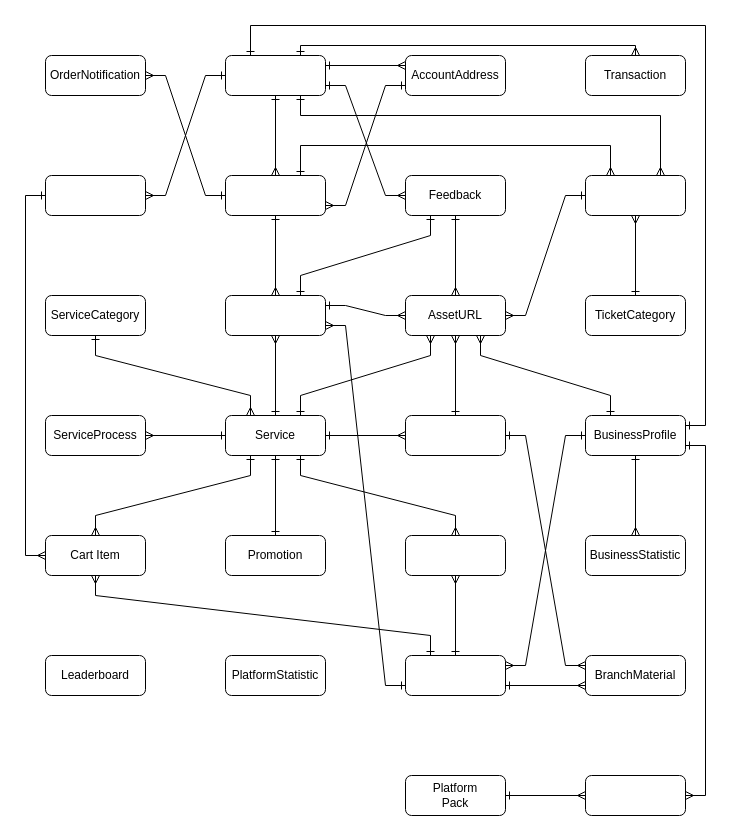
This 732x833 diagram has some shape labels left out. Each missing label, with the centre of its shape:
Account: the point at 275,75
BranchService: the point at 455,555
BusinessBranch: the point at 455,675
Cart: the point at 95,195
Material: the point at 455,435
Order: the point at 275,195
OrderDetail: the point at 275,315
Pack Subscription: the point at 635,795
Support Ticket: the point at 635,195
